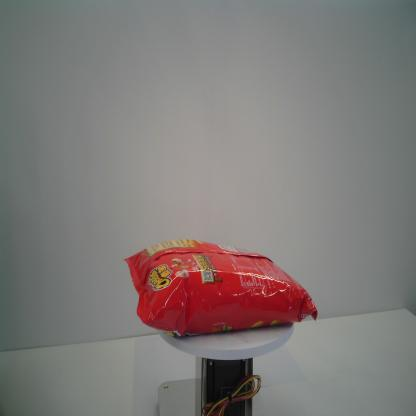Puffed Food: (120, 238, 319, 342)
